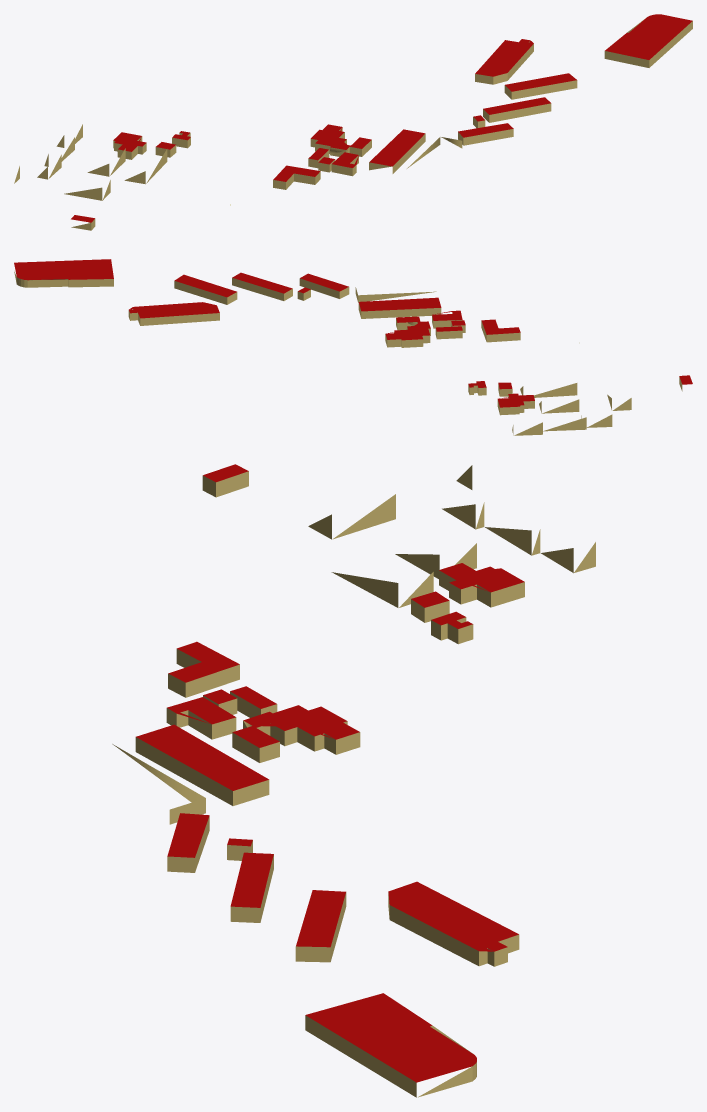
3 views of the same model, one above another, from view 1: azimuth 30°, elevation 25°; view 2: azimuth 150°, elevation 25°; view 3: azimuth 270°, elevation 25° (orthographic). The views are drawn at different scales.
Size of the model in its own units: 656 by 12.5 by 217.
